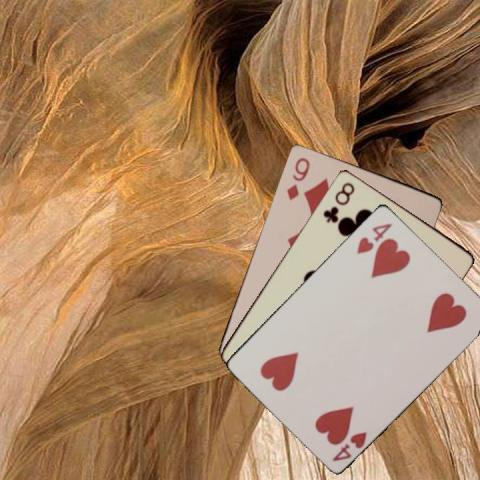4h: (353, 220, 394, 256), (329, 428, 368, 463)
8c: (320, 179, 356, 224)
9d: (284, 154, 312, 201)
